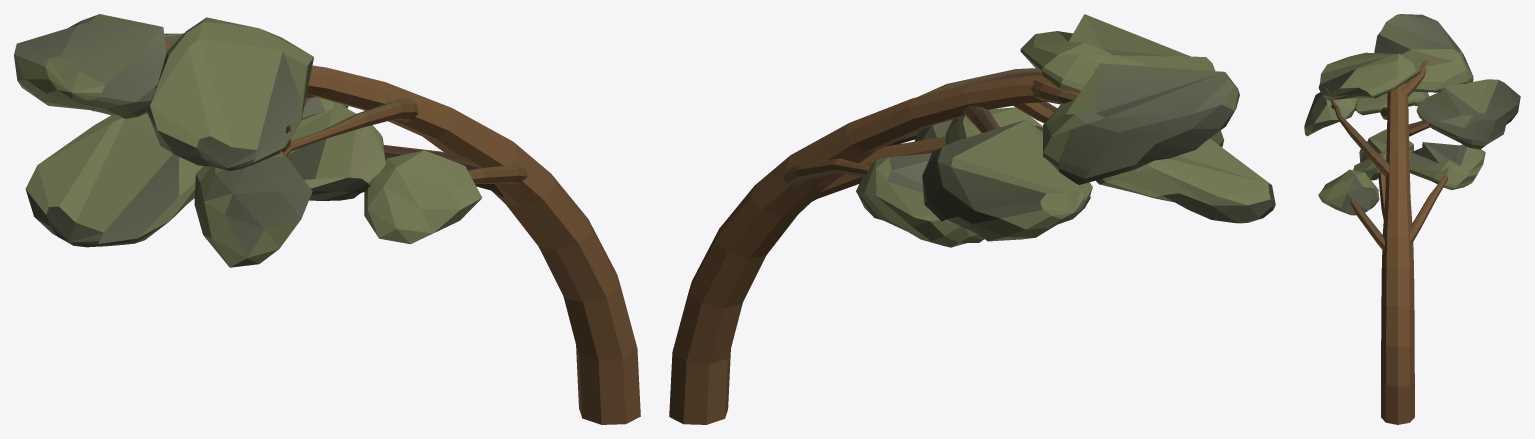
File: Tree72Bend_Summer.fbx
3 renders of one model, left to right at view 1: azimuth 30°, elevation 25°; view 2: azimuth 150°, elevation 25°; view 3: azimuth 270°, elevation 25°, orthographic. The views are drawn at different scales.
Parts seen in each view (by area): view 1: Cylinder.001; view 2: Cylinder.001; view 3: Cylinder.001.
Boxes of the visible parts, x1=… form: Cylinder.001: x1=14, y1=14, x2=640, y2=424; Cylinder.001: x1=669, y1=14, x2=1275, y2=424; Cylinder.001: x1=1304, y1=14, x2=1520, y2=424.
Size of the model in its own units: 741 by 572 by 430.
